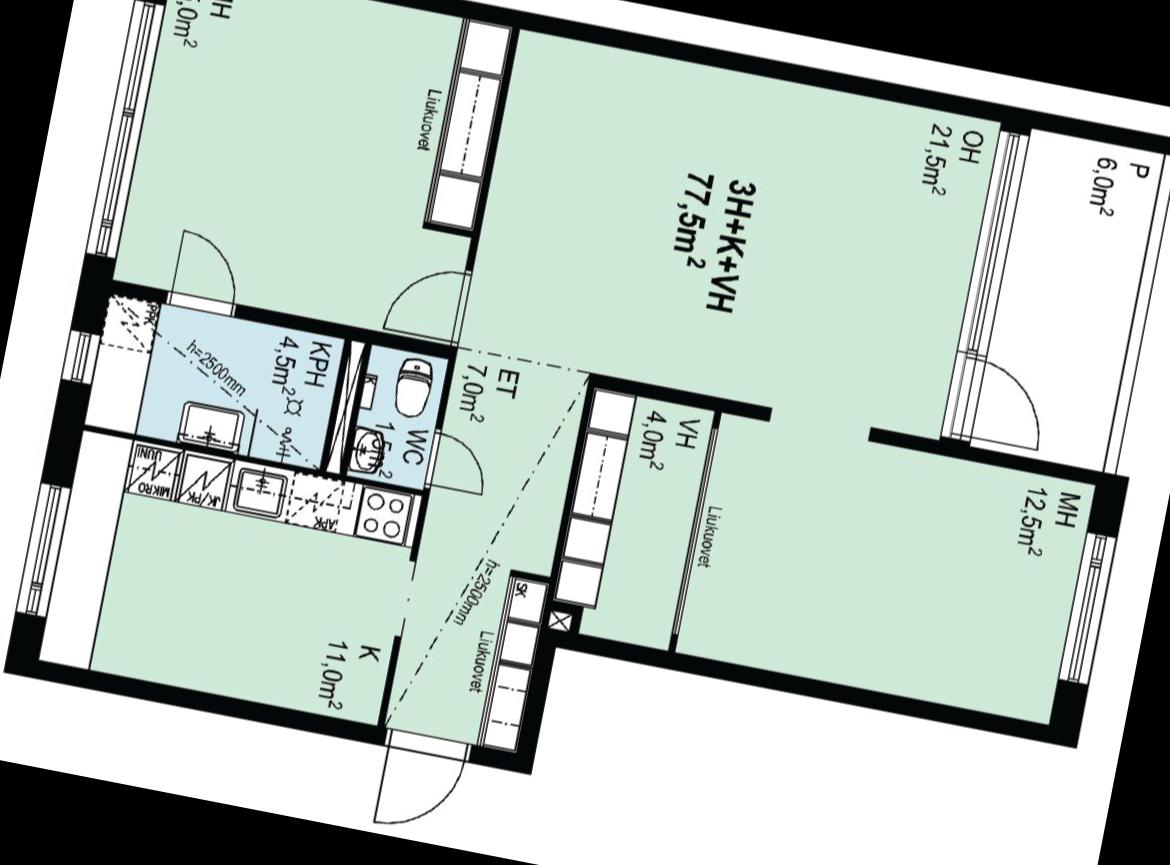door: (928, 348, 1055, 461), (370, 724, 476, 840), (374, 252, 481, 348), (160, 220, 253, 322), (412, 422, 500, 504)
window: (71, 0, 175, 271), (948, 118, 1034, 361), (1048, 520, 1126, 696), (8, 471, 78, 626), (49, 318, 108, 394)
